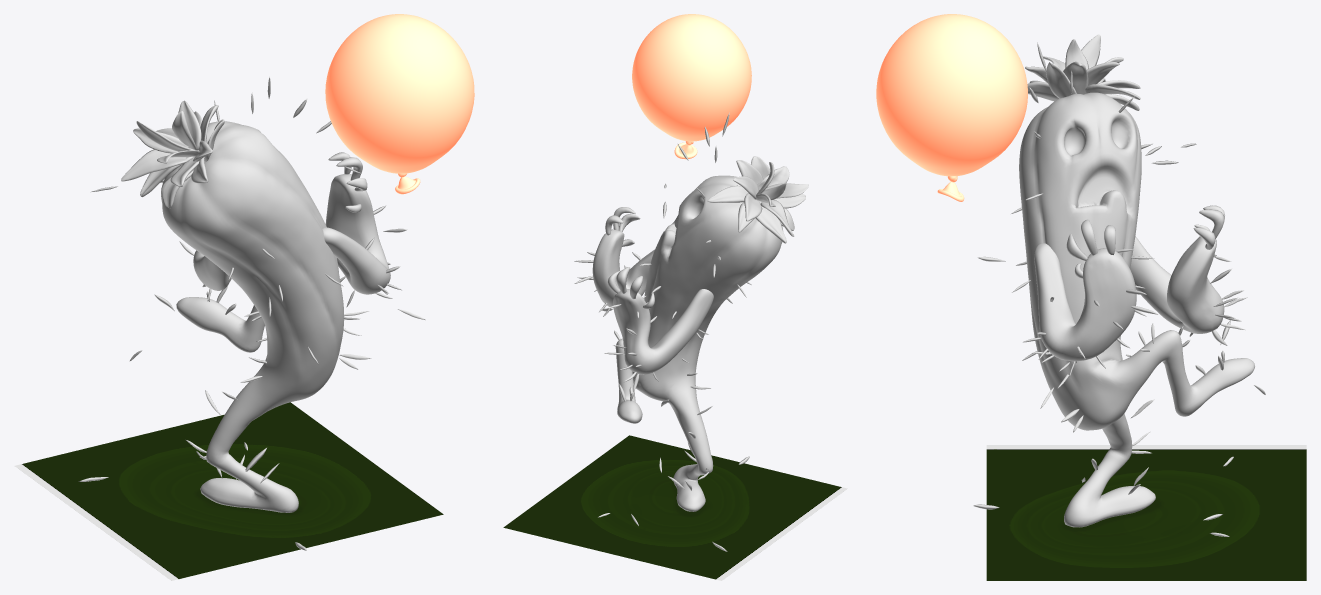
The model's file is Sketchfab.fbx.
The picture shows the model from 3 angles, left to right: view 1: azimuth 30°, elevation 25°; view 2: azimuth 150°, elevation 25°; view 3: azimuth 270°, elevation 25°; orthographic projection. The views are drawn at different scales.
Visible parts, largest first — view 1: body, shadow, balloon, hair; view 2: body, shadow, balloon, hair; view 3: body, shadow, balloon, hair.
Part boxes in pixels (<box>): body: <box>78,76,425,550</box>; shadow: <box>15,402,443,580</box>; balloon: <box>325,14,474,194</box>; hair: <box>121,100,224,208</box>; body: <box>574,112,782,551</box>; shadow: <box>503,435,847,580</box>; balloon: <box>632,14,751,159</box>; hair: <box>707,156,808,243</box>; body: <box>973,42,1265,536</box>; shadow: <box>986,445,1306,580</box>; balloon: <box>876,14,1027,201</box>; hair: <box>1025,34,1140,110</box>.
Size of the model in its own units: 359 by 637 by 468.
